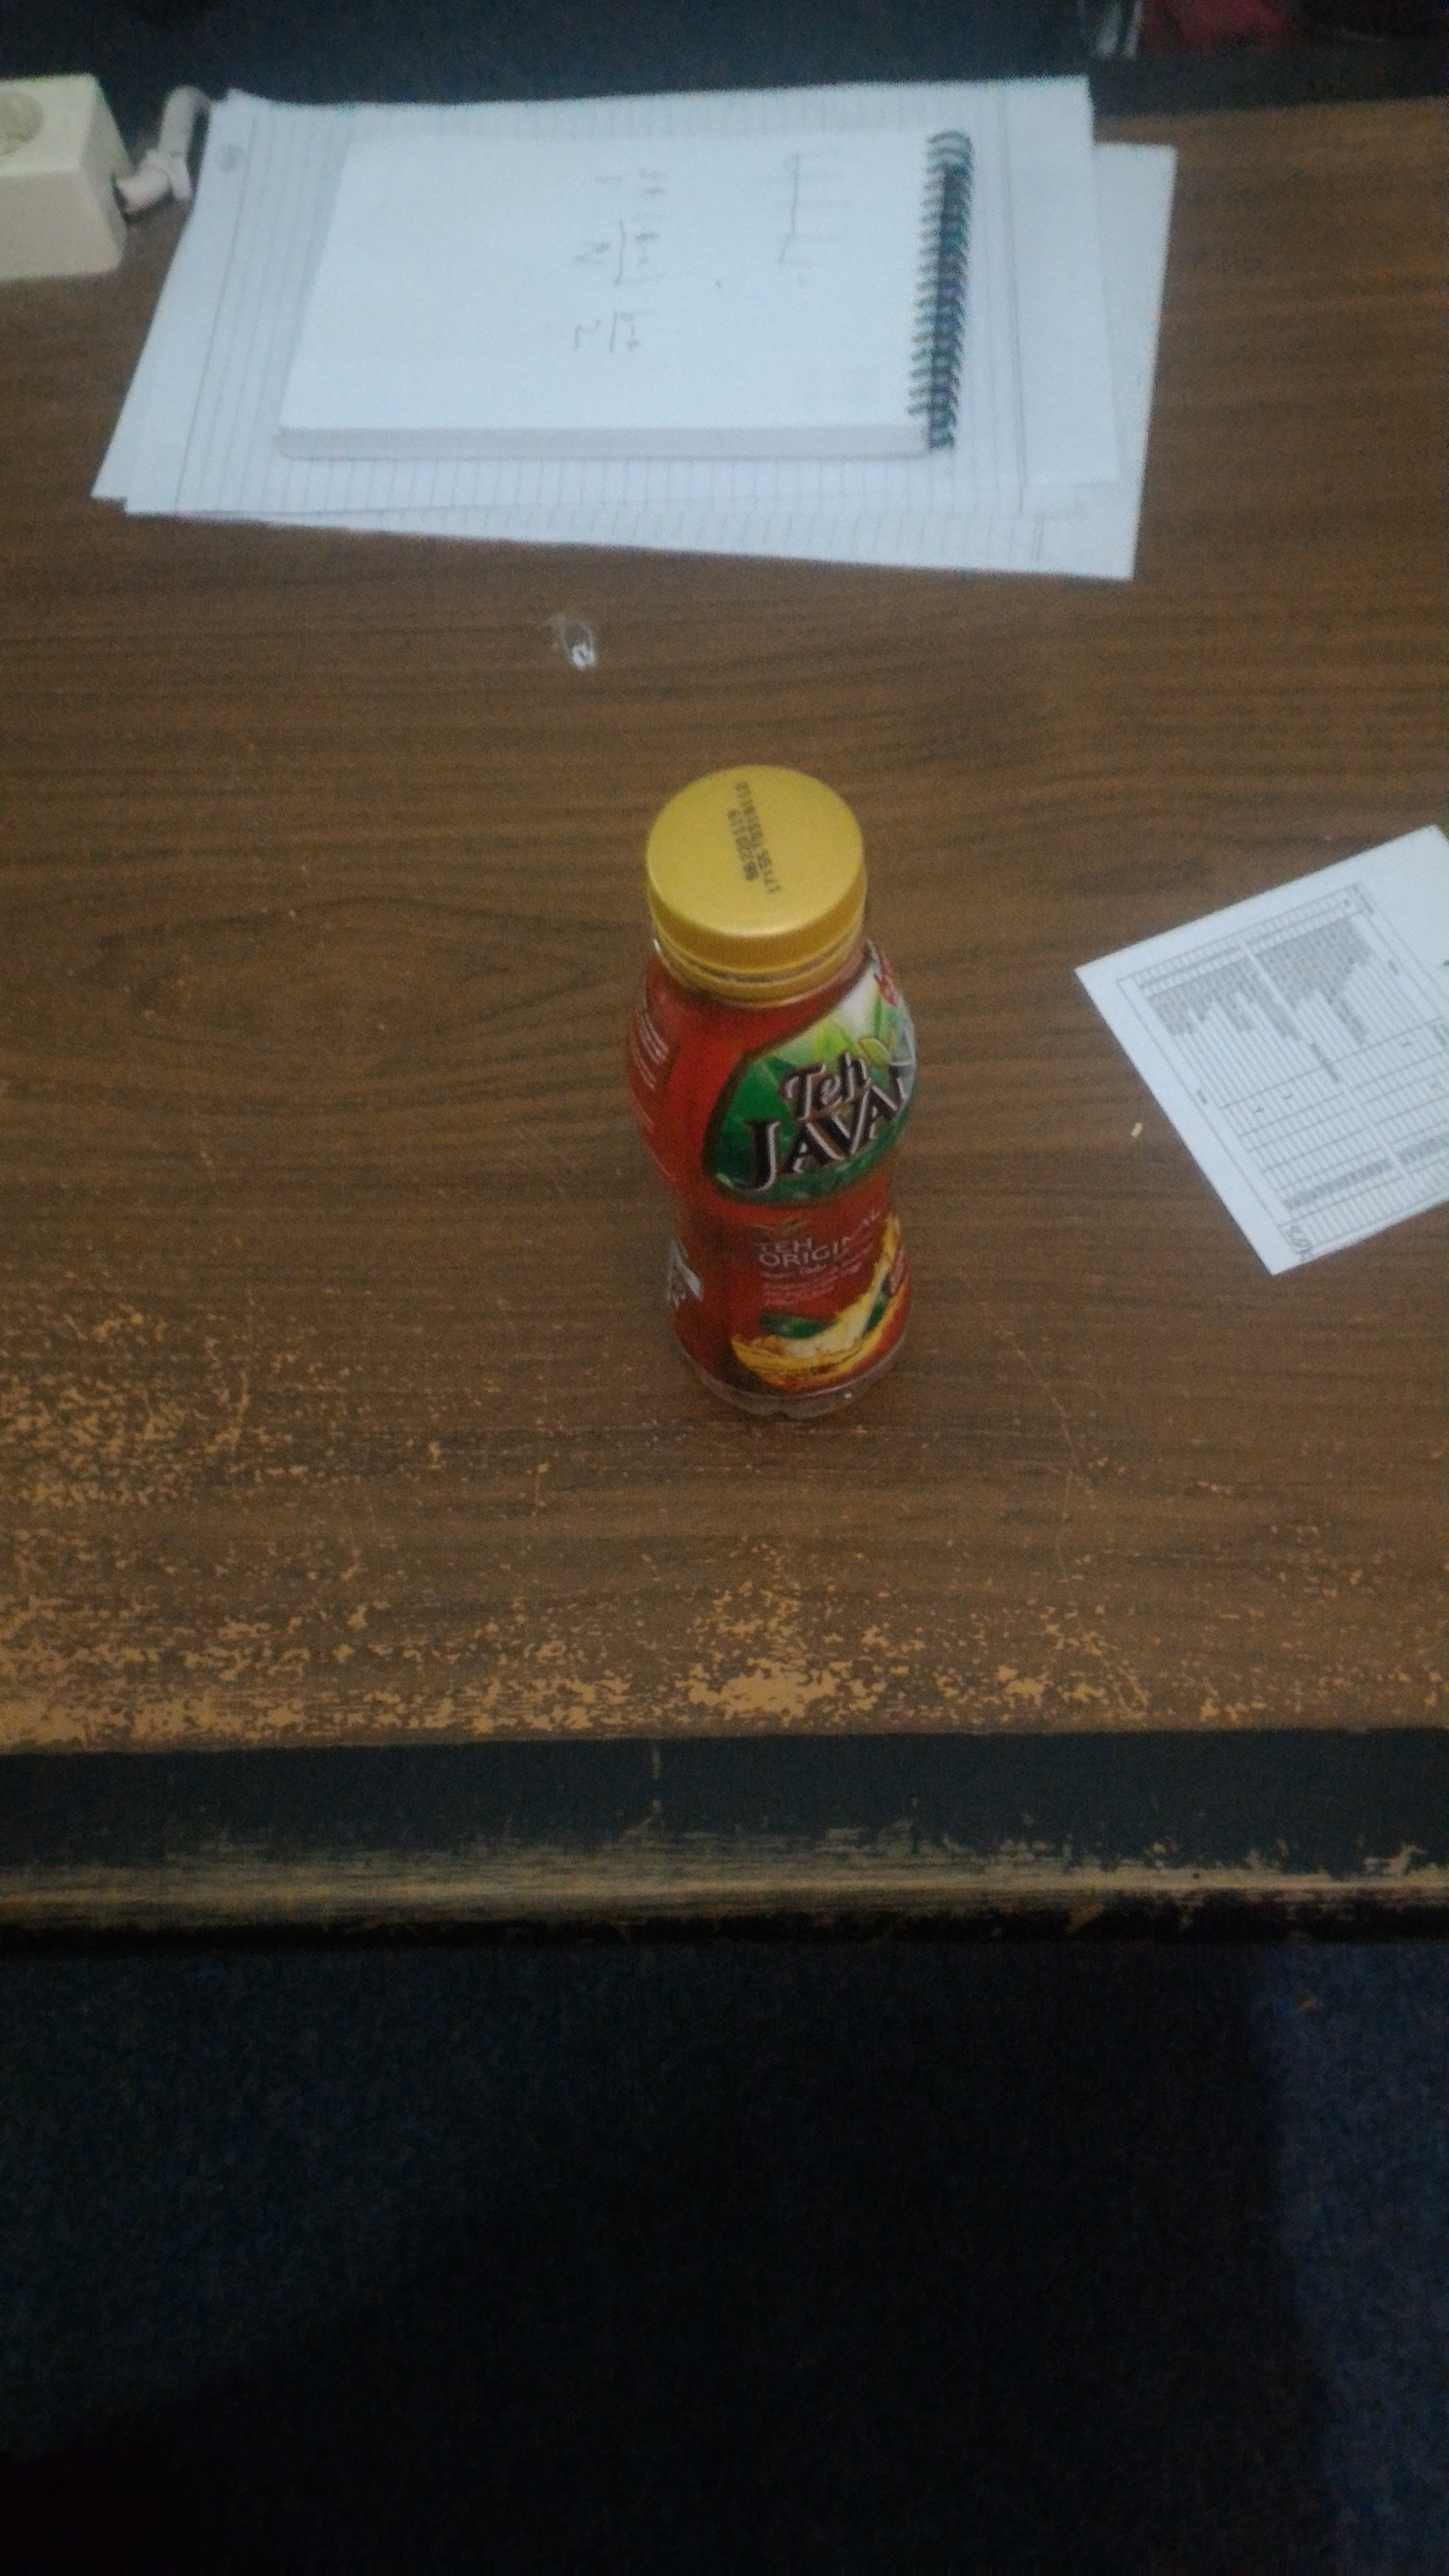botol: (619, 764, 916, 1421)
